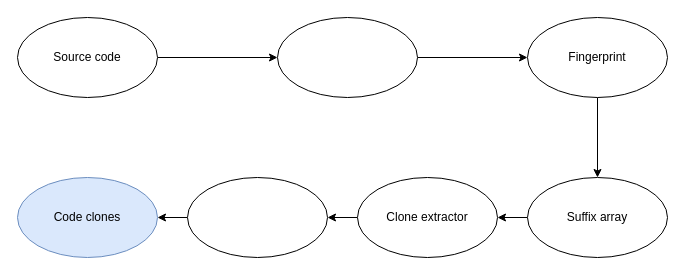
This 685x275 diagram has some shape labels left out. Here are the shapes that lost their labels. From the top down, the centre of each, then its label:
At point 347,57: "Document index".
At point 257,217: "Source-map".
